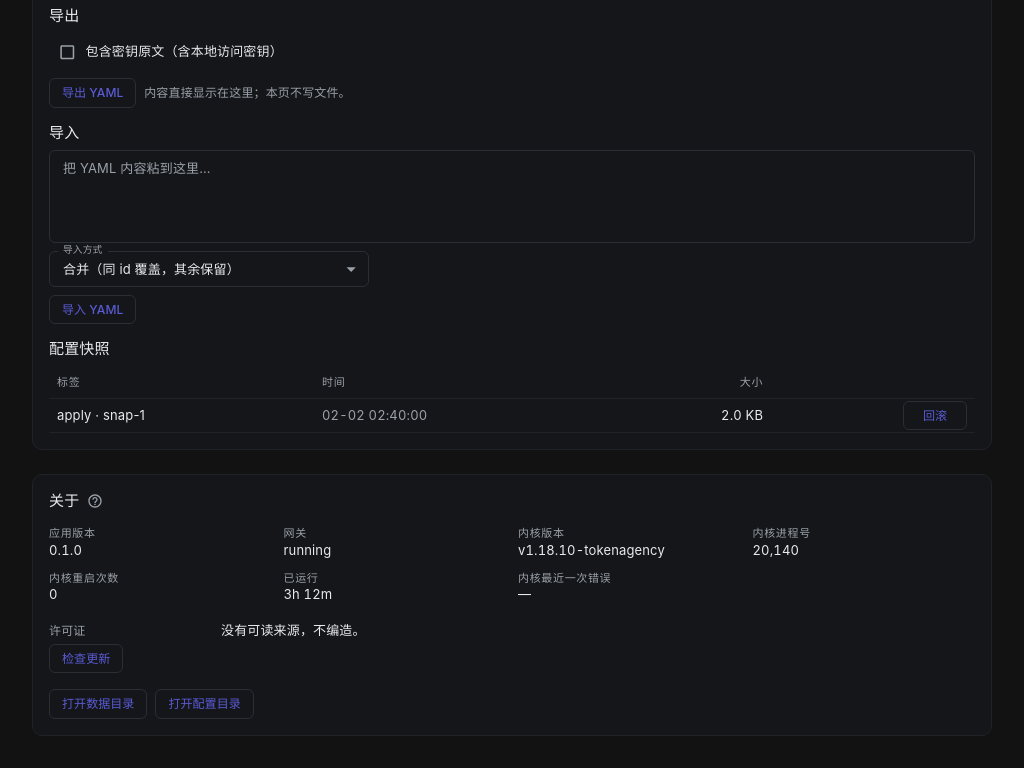
Test: 检查更新：只在点了之后发请求，结果如实说 › 后端报错：原样显示错误码，绝不改口说「没有新版本」
(page scrolled)
Click the button with test id "settings-update-run" at (86, 659), box [49,644,123,673]
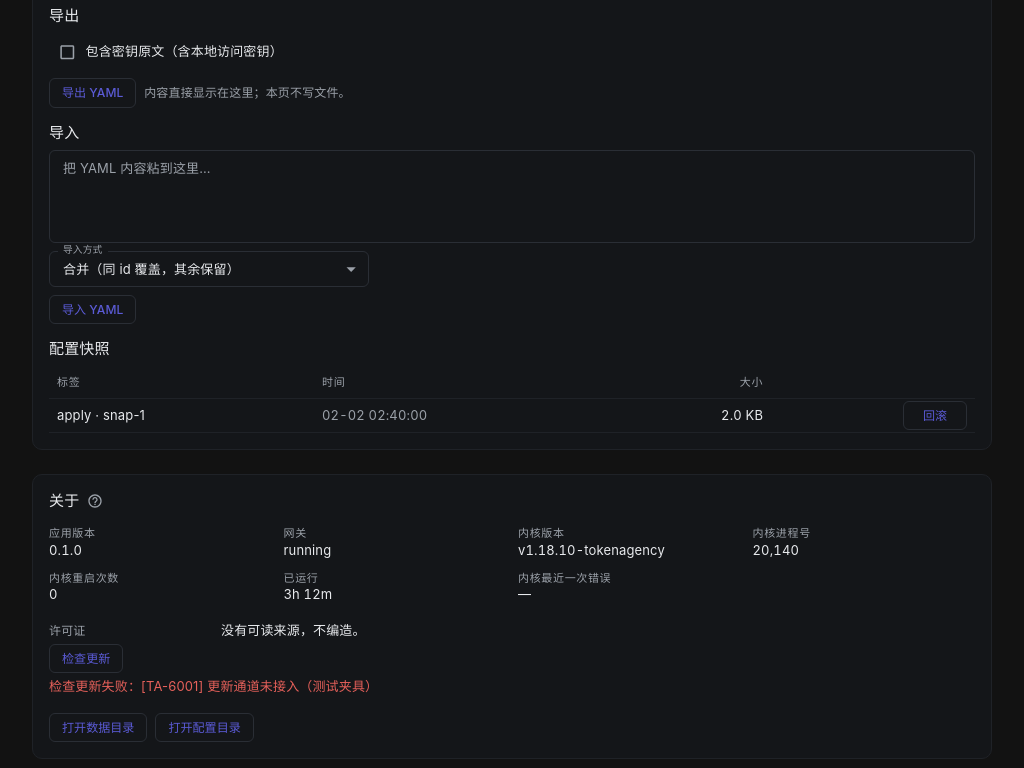
Expected: the text with test id "settings-update-error" shows "[TA-6001]", [49,678,378,694]
Expected: the text with test id "settings-update-error" shows "更新通道未接入", [49,678,378,694]
